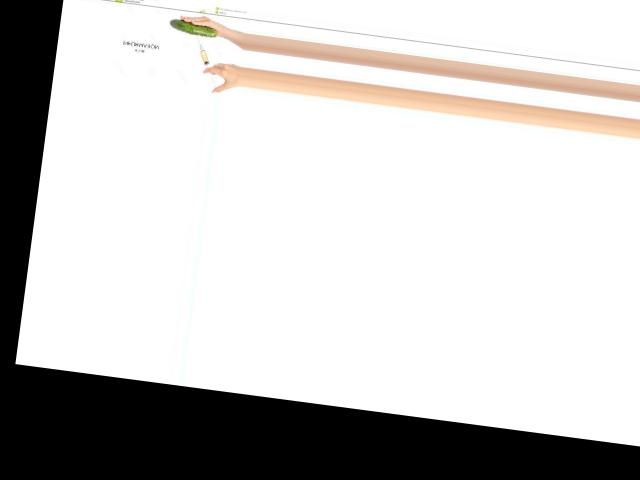cucumber: (169, 18, 218, 37)
